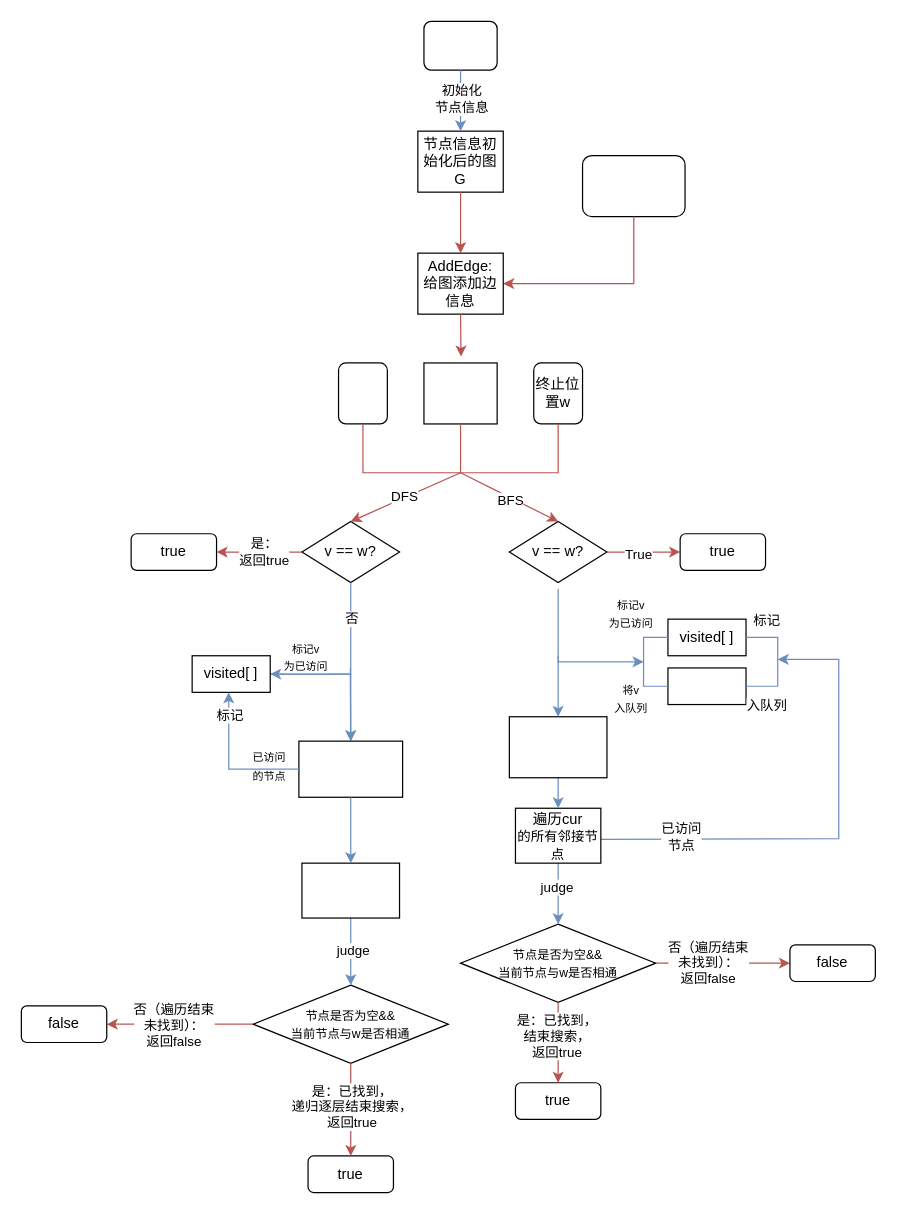
Image size: 897x1214. Some labels were removed from this diagram. The shapes that lost their labels are listed below. From the top down, each one's box as (x1, y1, x2, y2) in pixels, then its label:
(423, 20, 497, 70): 初始的图G
(581, 154, 685, 217): 储存了边信息的数组edges
(337, 362, 387, 424): 起始位置v
(423, 362, 497, 424): 初始化完成的图G
(667, 667, 746, 705): queue[ ]
(508, 716, 607, 778): 进入循环， 取队头顶点 cur
(298, 740, 403, 797): 迭代遍历 v的所有邻接节点
(301, 862, 400, 918): 递归进入DFS函数
